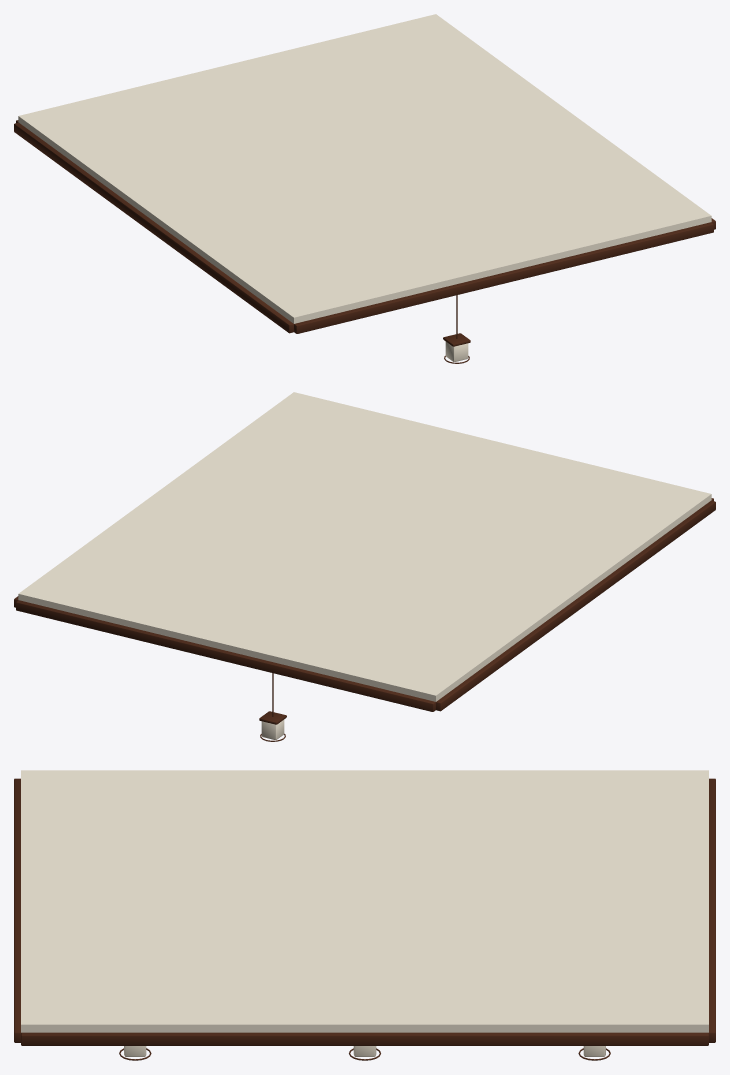
Rendered from CeilingZen.fbx.
3 renders of one model, top to bottom at view 1: azimuth 30°, elevation 25°; view 2: azimuth 150°, elevation 25°; view 3: azimuth 270°, elevation 25°, orthographic. The views are drawn at different scales.
Visible parts, largest first — view 1: CeilingZen; view 2: CeilingZen; view 3: CeilingZen.
Boxes of the visible parts, box(x1,y1,x2,y2) form: CeilingZen: box(14, 14, 715, 363); CeilingZen: box(14, 392, 715, 741); CeilingZen: box(14, 770, 715, 1060).
Bounding box in the file's own units: 7160 × 2020 × 8160.
